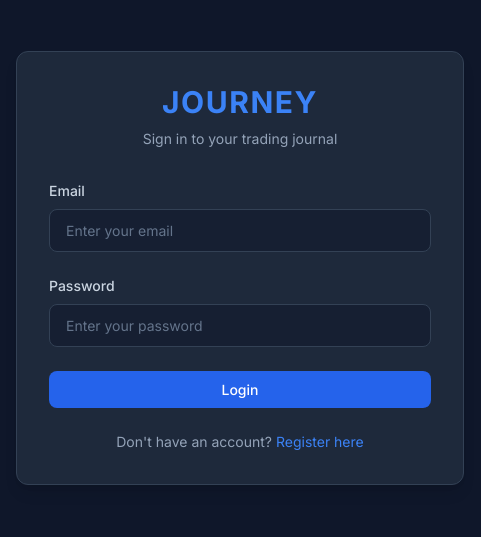
Login Page › should show generic error message when no specific error provided
Note: Fill and submit form
Type "test@test.com" into the field with placeholder "Enter your email" at (240, 230), box [49,209,431,252]
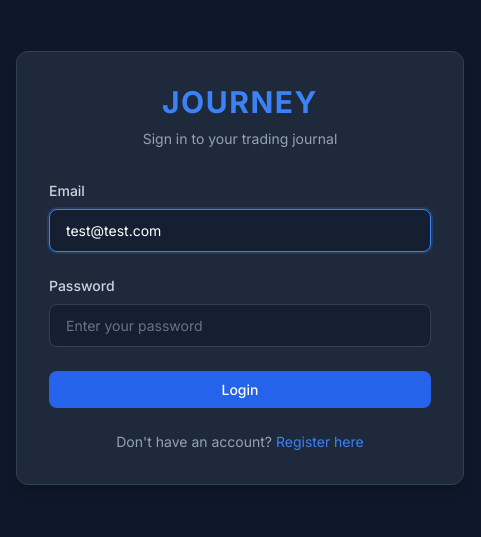
Type "password123" into the password field with placeholder "Enter your password" at (240, 326), box [49,304,431,347]
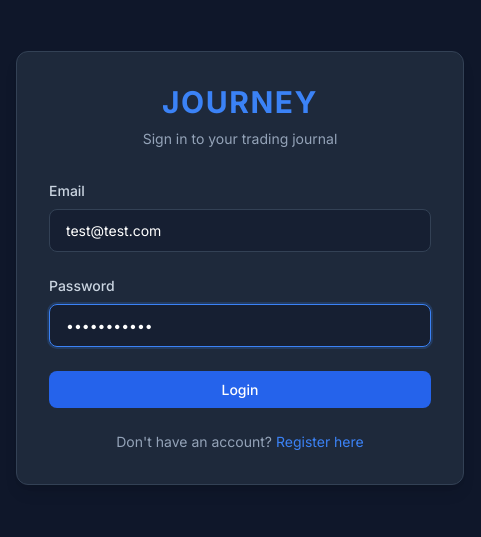
Click the button "Login" at (240, 390), box [49,371,431,408]
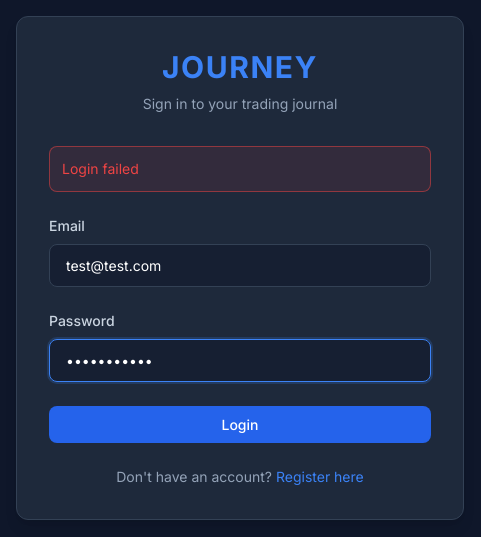
Check: the text "Login failed" is shown, box [49,146,431,192]
